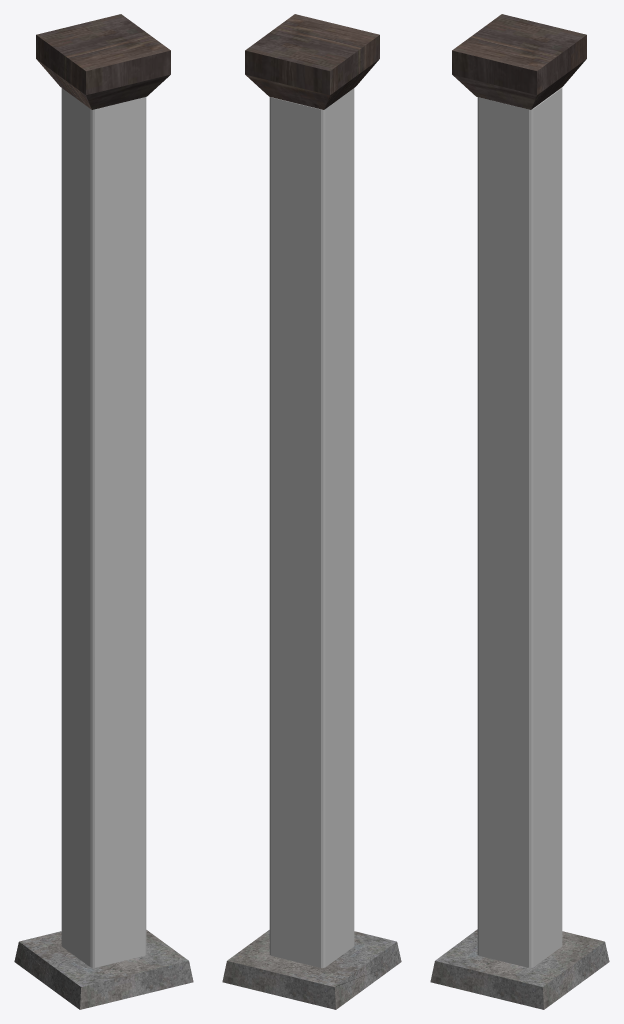
Rendered from SM_Pillar_2.FBX.
The picture shows the model from 3 angles, left to right: view 1: azimuth 30°, elevation 25°; view 2: azimuth 150°, elevation 25°; view 3: azimuth 330°, elevation 25°; orthographic projection.
Parts seen in each view (by area): view 1: SM_Pillar_2; view 2: SM_Pillar_2; view 3: SM_Pillar_2.
Part boxes in pixels (box(x1,y1,x2,y2)): SM_Pillar_2: box(14, 14, 193, 1009); SM_Pillar_2: box(222, 14, 401, 1009); SM_Pillar_2: box(430, 14, 609, 1009).
Size of the model in its own units: 79.74 by 623 by 79.74.
